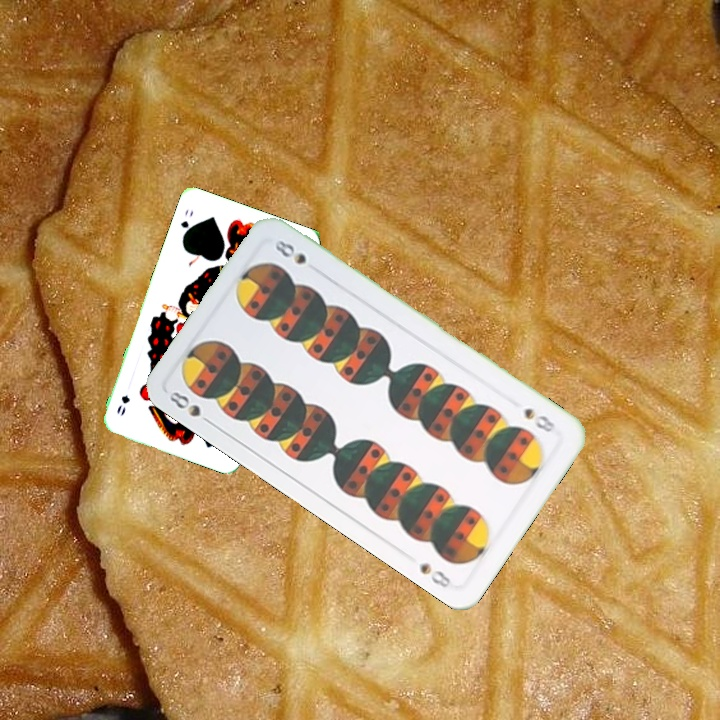GO: (176, 205, 196, 242)
S8: (165, 387, 217, 429), (520, 404, 560, 436)
